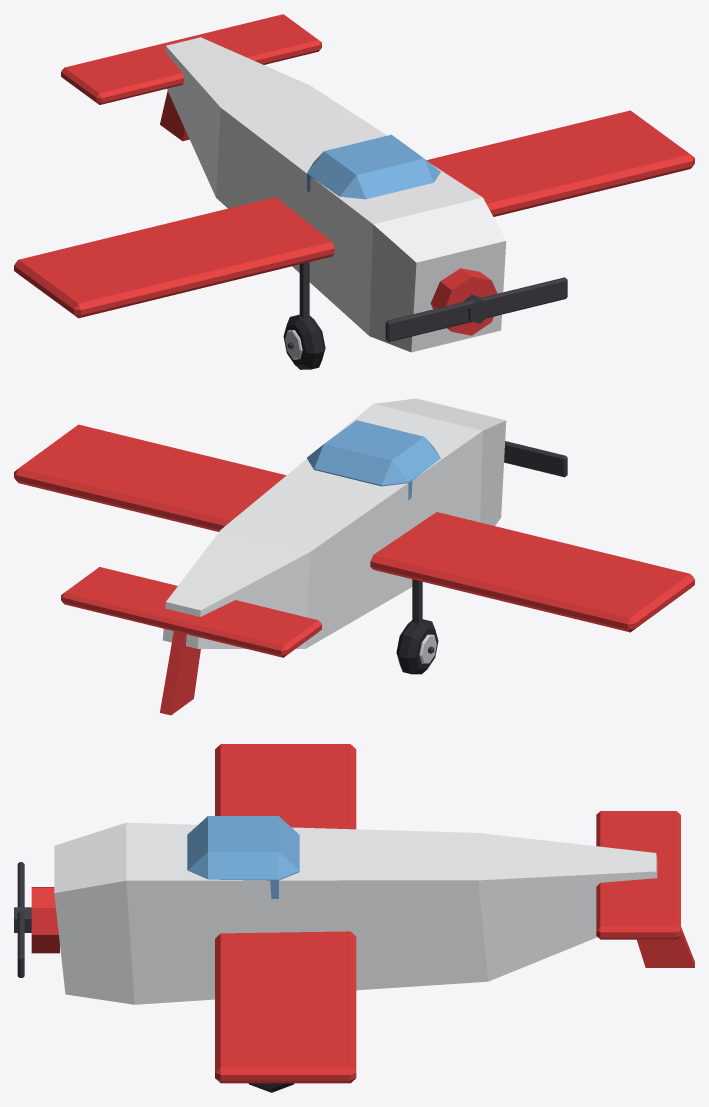
Rendered from Airplane.fbx.
3 renders of one model, top to bottom at view 1: azimuth 30°, elevation 25°; view 2: azimuth 150°, elevation 25°; view 3: azimuth 270°, elevation 25°, orthographic. The views are drawn at different scales.
Parts seen in each view (by area): view 1: Airplane, Airplane_Propeller, Airplane_WheelR; view 2: Airplane, Airplane_WheelR, Airplane_Propeller; view 3: Airplane, Airplane_Propeller.
Part boxes in pixels (<box>): Airplane: <box>14,14,694,352</box>; Airplane_Propeller: <box>385,277,567,341</box>; Airplane_WheelR: <box>283,314,325,369</box>; Airplane: <box>14,398,694,715</box>; Airplane_WheelR: <box>396,619,438,674</box>; Airplane_Propeller: <box>504,441,567,477</box>; Airplane: <box>31,744,694,1083</box>; Airplane_Propeller: <box>14,862,31,977</box>.
Bounding box in the file's own units: 11 × 3.55 × 9.65.
1 material, 1 textured.
